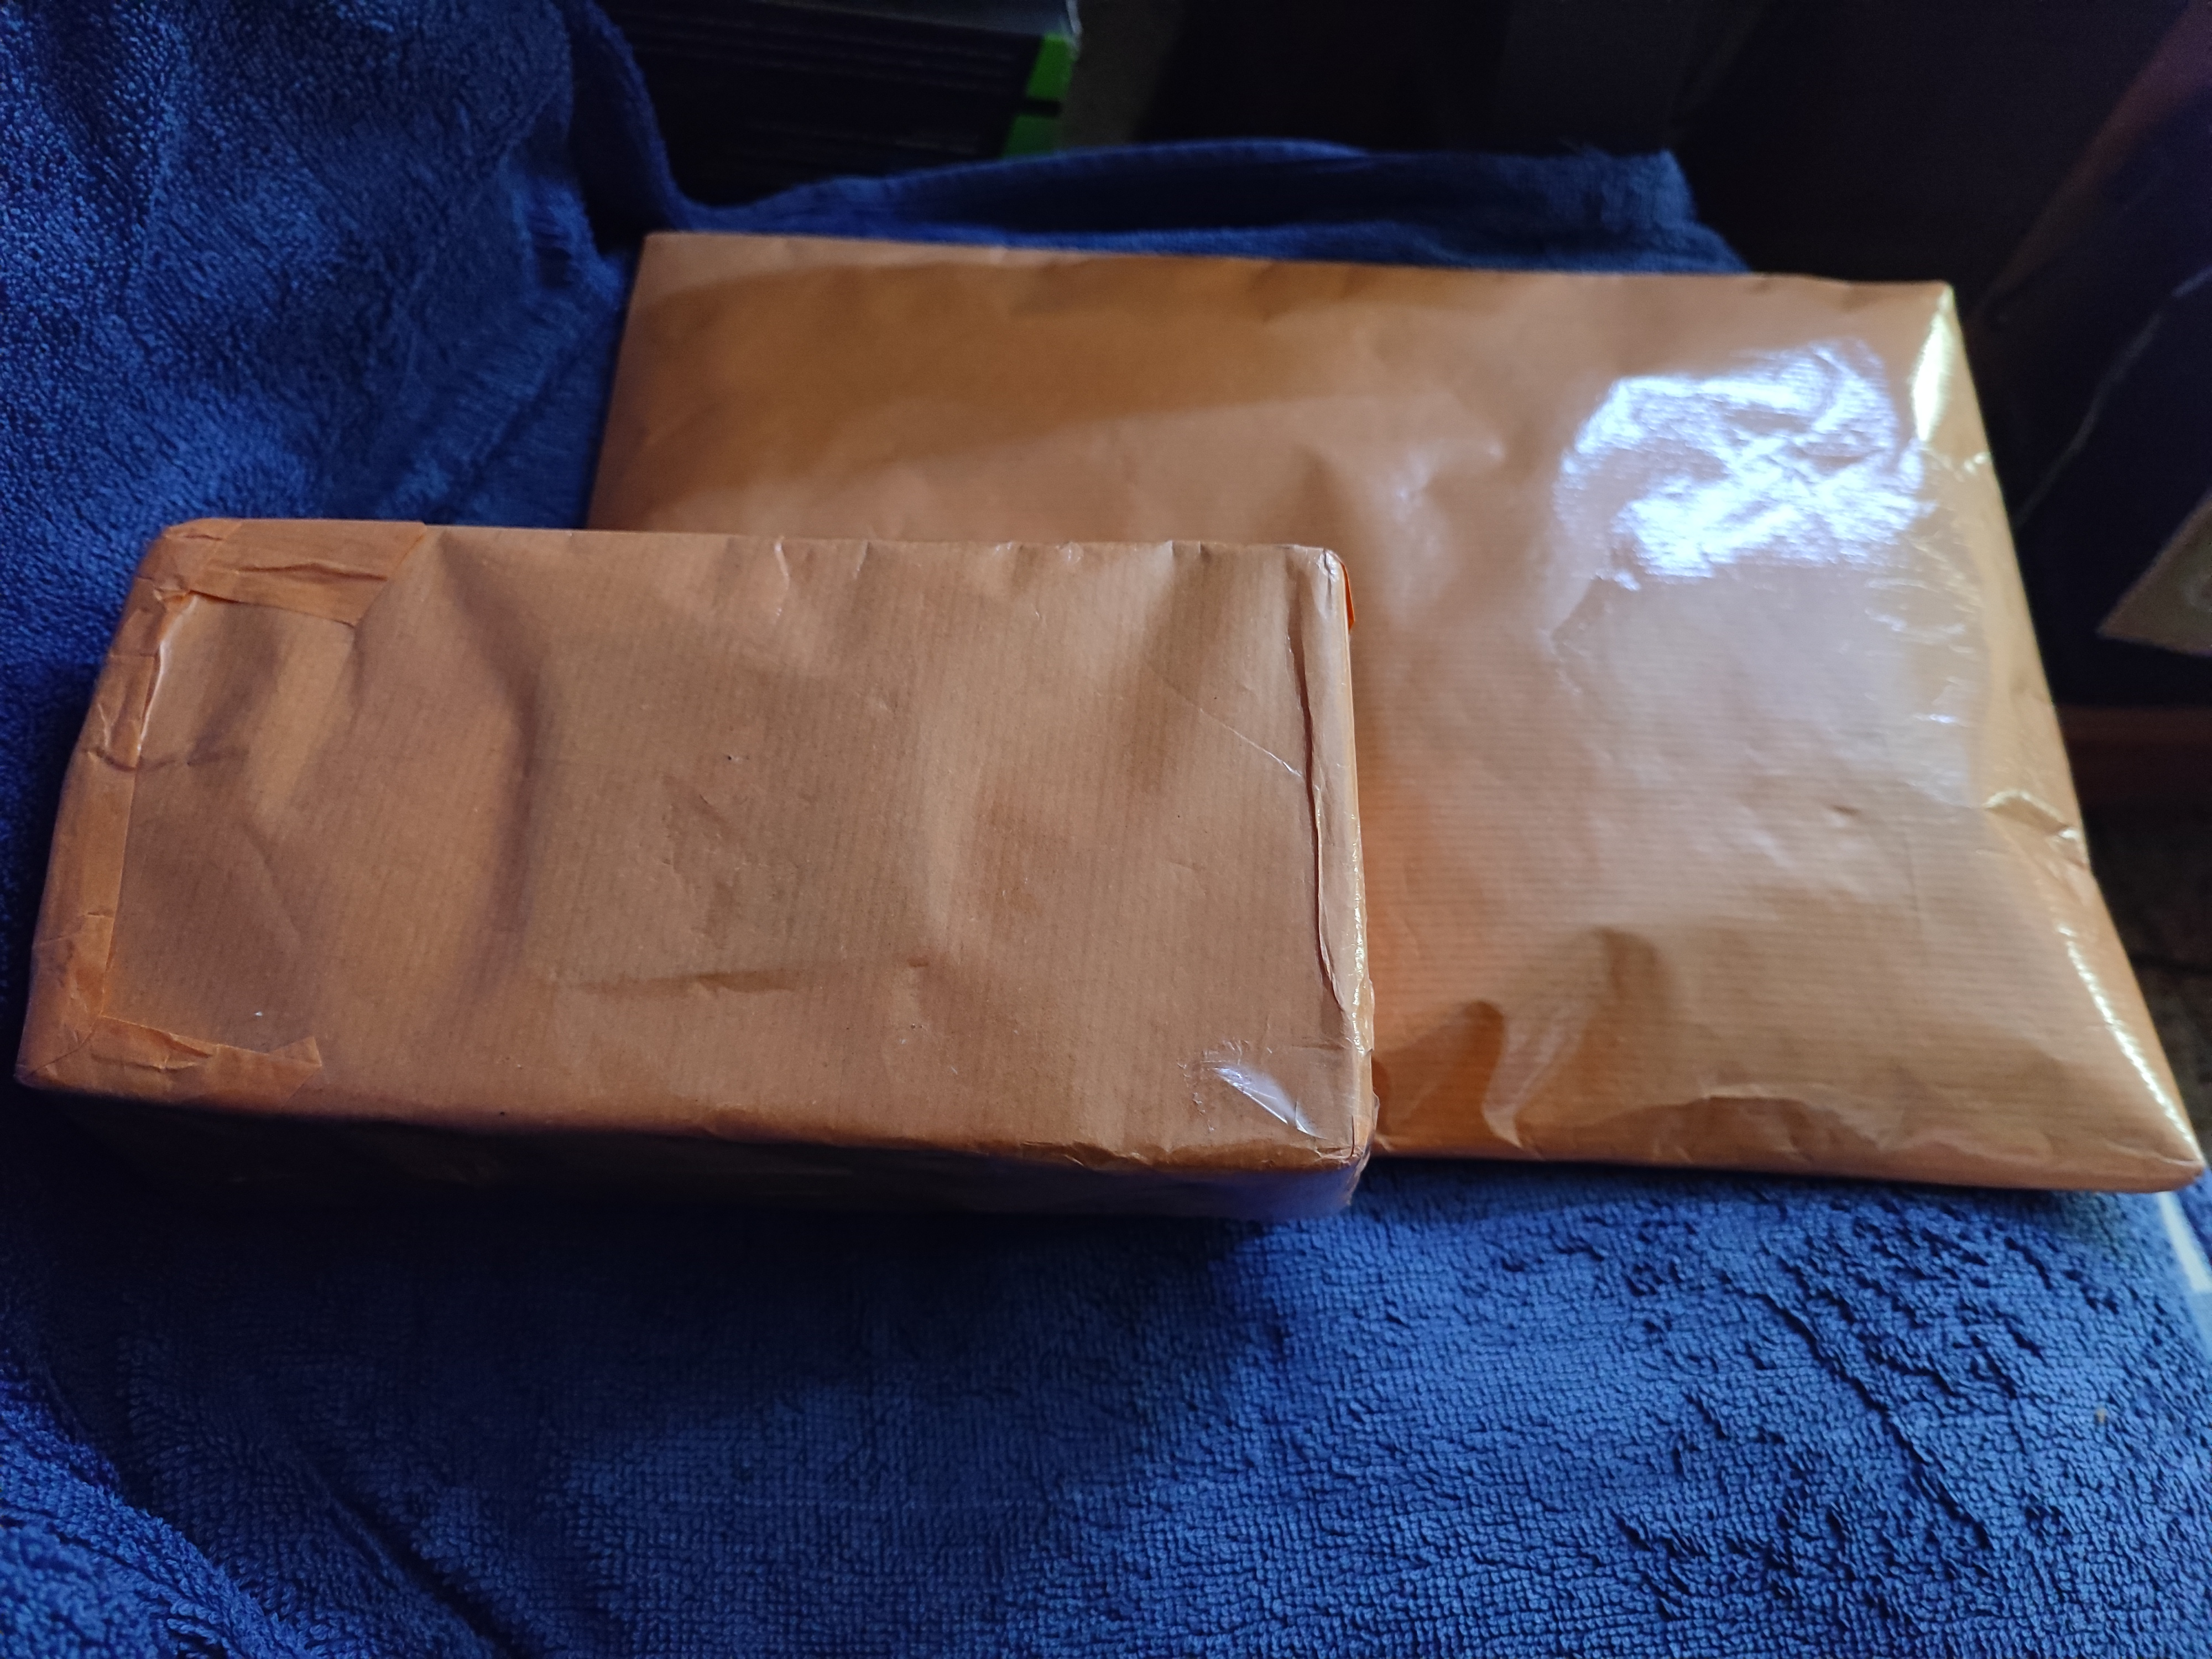Box: (533, 183, 2148, 1183), (71, 457, 1355, 1281)
